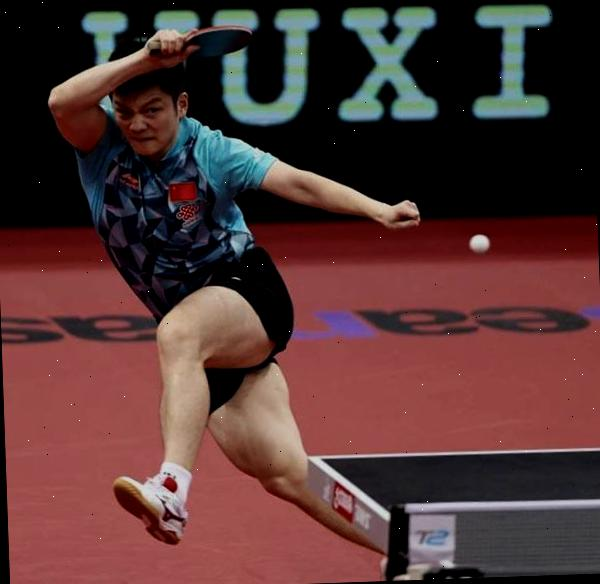ball: (464, 231, 493, 256)
